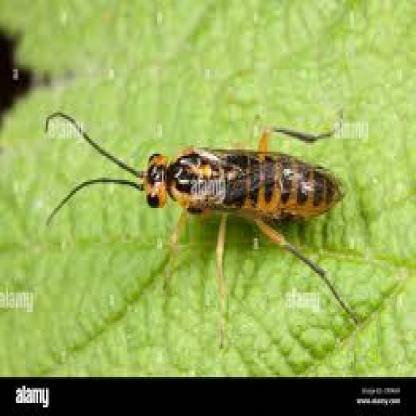sawfly: (38, 110, 359, 312)
